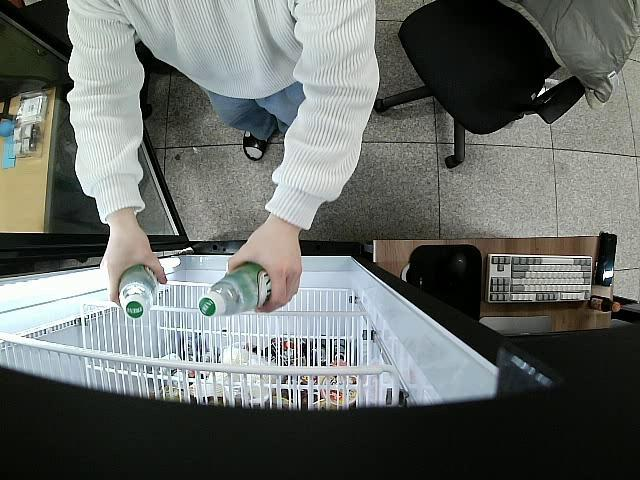18_trevi: (198, 262, 274, 317), (117, 263, 158, 320)
